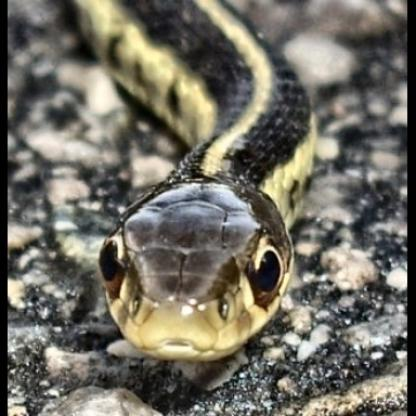Snake: (66, 4, 321, 362)
